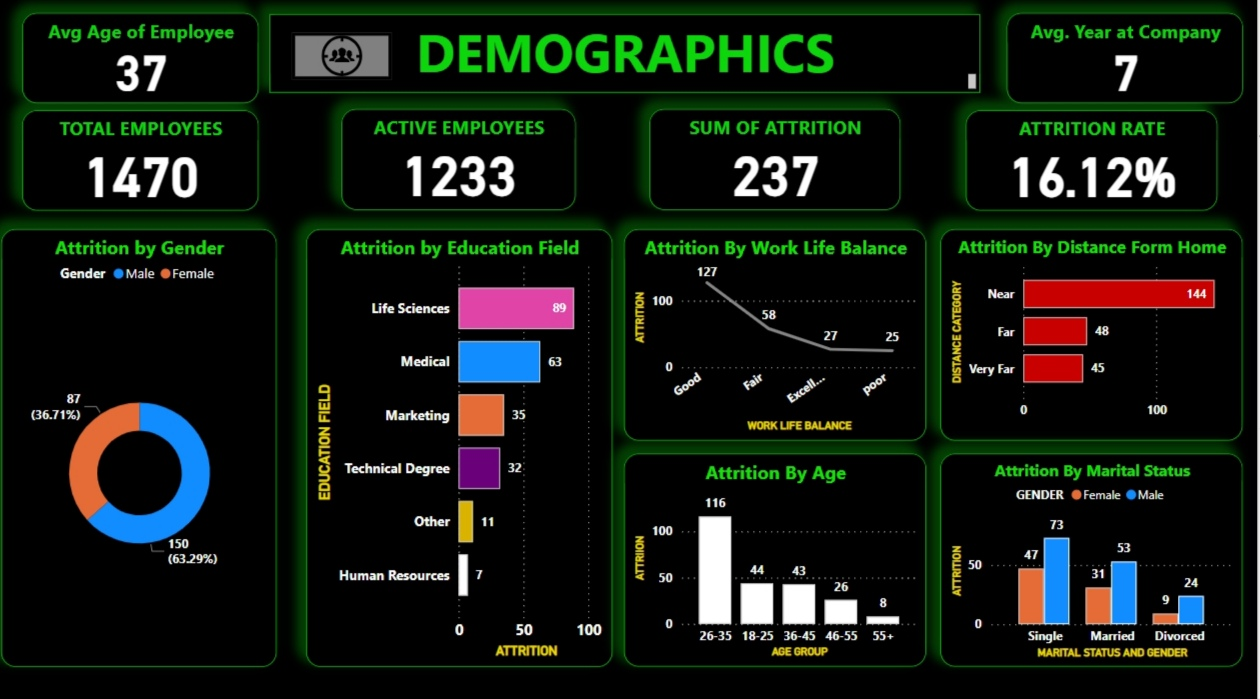

Layout of this report page (visuals, bound fields, positions):
{"tool":"powerbi","page":{"name":"Page 2","canvas":[1280,720],"ordinal":1},"visuals":[{"type":"card","title":"TOTAL EMPLOYEES ","fields":{"Values":["CountNonNull(public employee.empid)"]},"box":[217.1,118.6,238.6,101.4],"z":0},{"type":"textbox","title":" DEMOGRAPHICS","box":[318.2,21.4,717.8,78.5],"z":1000},{"type":"card","title":"SUM OF ATTRITION","fields":{"Values":["Sum(public employee.AttritionColumn)"]},"box":[568.6,118.6,252.9,101.4],"z":2000},{"type":"card","title":"ACTIVE EMPLOYEES","fields":{"Values":["public employee.ActiveEmployee"]},"box":[908.6,118.6,235.7,101.4],"z":3000},{"type":"donutChart","title":"Attrition by Gender","fields":{"Category":["public employee.gender"],"Y":["Sum(public employee.AttritionColumn)"]},"box":[10,238.3,278.3,442.4],"z":4000},{"type":"clusteredBarChart","title":"Attrition by Education Field","fields":{"Category":["public employee.educationfield"],"Y":["Sum(public employee.AttritionColumn)"]},"box":[318.2,238.3,309.7,442.4],"z":5000},{"type":"clusteredColumnChart","title":"Attrition By Age","fields":{"Category":["public employee.agegroup"],"Y":["Sum(public employee.AttritionColumn)"]},"box":[639.3,465.2,305.4,215.5],"z":6000},{"type":"lineChart","title":"Attrition By Work Life Balance","fields":{"Category":["public employee.WorklifeBalancedword"],"Y":["Sum(public employee.AttritionColumn)"]},"box":[639.3,238.3,305.4,214.1],"z":7000},{"type":"barChart","title":"Attrition By Distance Form Home","fields":{"Category":["public employee.Distance Category"],"Y":["Sum(public employee.AttritionColumn)"]},"box":[958.9,238.3,305.4,214.1],"z":8000},{"type":"clusteredColumnChart","title":"Attrition By Marital  Status","fields":{"Category":["public employee.maritalstatus"],"Series":["public employee.gender"],"Y":["Sum(public employee.AttritionColumn)"]},"box":[958.9,465.2,305.4,215.5],"z":9000}]}

Visuals, with their boxes in screenshot pixels (x1, y1, x2, y2), scaled from the page's 1280x720 canvas onto the 1260x699 screenshot:
"TOTAL EMPLOYEES " card: Rect(214, 115, 449, 214)
" DEMOGRAPHICS" textbox: Rect(313, 21, 1020, 97)
"SUM OF ATTRITION" card: Rect(560, 115, 809, 214)
"ACTIVE EMPLOYEES" card: Rect(894, 115, 1126, 214)
"Attrition by Gender" donutChart: Rect(10, 231, 284, 661)
"Attrition by Education Field" clusteredBarChart: Rect(313, 231, 618, 661)
"Attrition By Age" clusteredColumnChart: Rect(629, 452, 930, 661)
"Attrition By Work Life Balance" lineChart: Rect(629, 231, 930, 439)
"Attrition By Distance Form Home" barChart: Rect(944, 231, 1245, 439)
"Attrition By Marital  Status" clusteredColumnChart: Rect(944, 452, 1245, 661)
